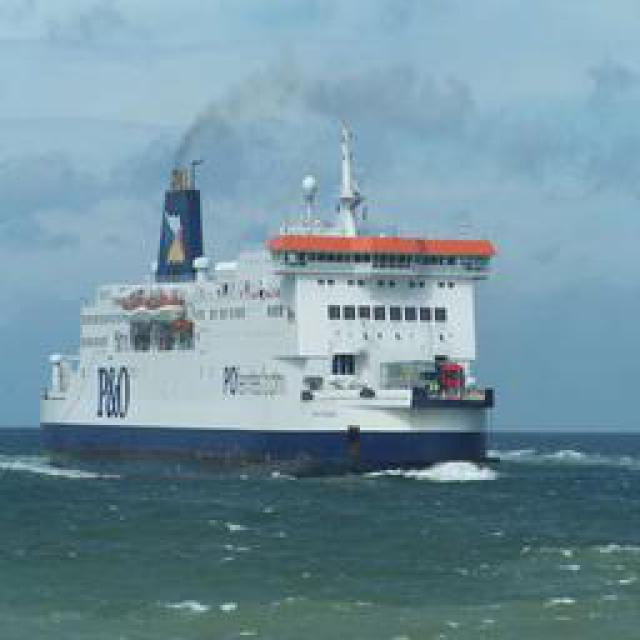Ship: (42, 105, 502, 473)
